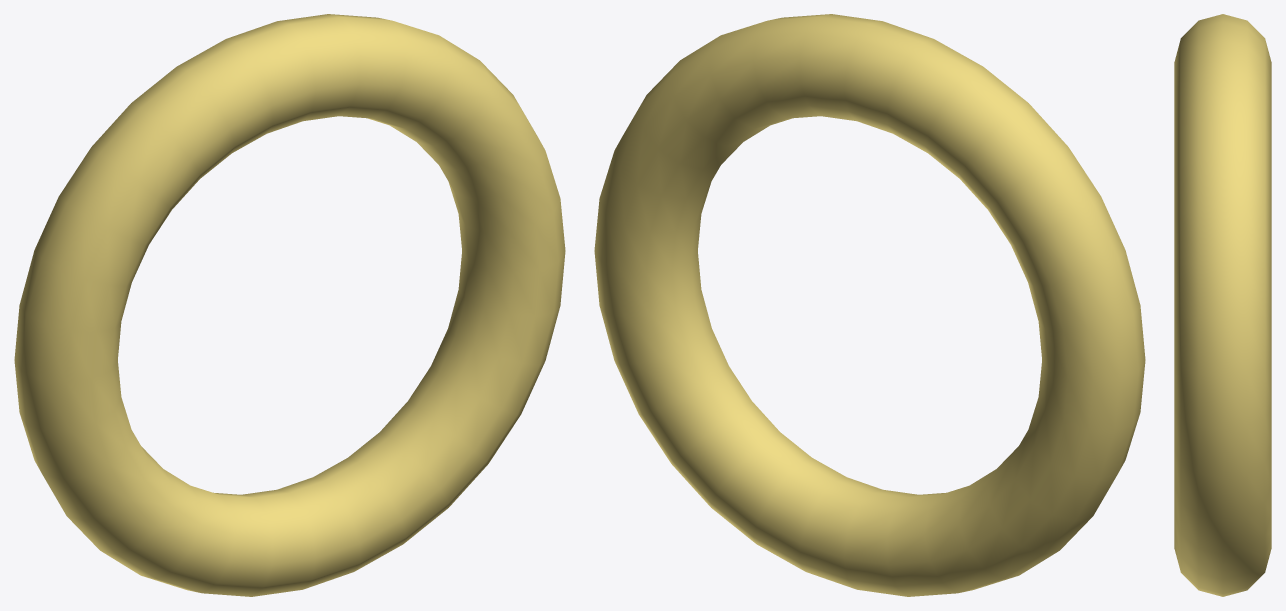
File: ACX_OR_12MM_GOLD.glb
The picture shows the model from 3 angles, left to right: view 1: azimuth 30°, elevation 25°; view 2: azimuth 150°, elevation 25°; view 3: azimuth 270°, elevation 25°; orthographic projection. The views are drawn at different scales.
Visible parts, largest first — view 1: ACX_OR_12MM_GOLD; view 2: ACX_OR_12MM_GOLD; view 3: ACX_OR_12MM_GOLD.
Part boxes in pixels (x1,y1,x2,y2): ACX_OR_12MM_GOLD: [14, 14, 565, 596]; ACX_OR_12MM_GOLD: [594, 14, 1145, 596]; ACX_OR_12MM_GOLD: [1174, 14, 1271, 596].
Bounding box in the file's own units: 1.2 × 1.2 × 0.2.
